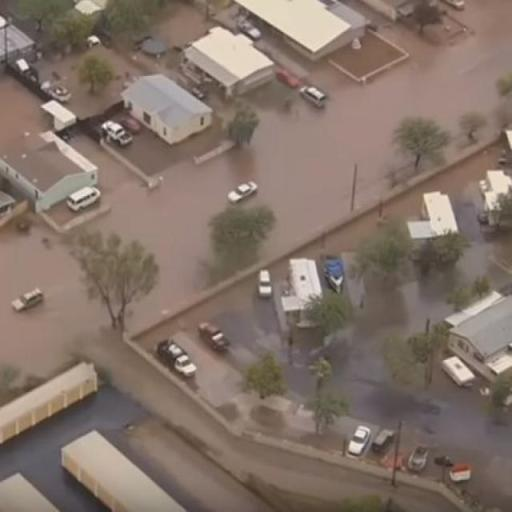flood: (0, 217, 414, 512), (32, 1, 215, 120), (136, 276, 256, 406), (0, 64, 52, 148), (332, 32, 402, 76)
house: (56, 422, 196, 511), (0, 348, 104, 452), (240, 3, 362, 66), (446, 285, 512, 394), (4, 136, 98, 211), (126, 72, 214, 144), (186, 28, 274, 100), (0, 469, 73, 512), (410, 190, 462, 242), (0, 12, 39, 68)
